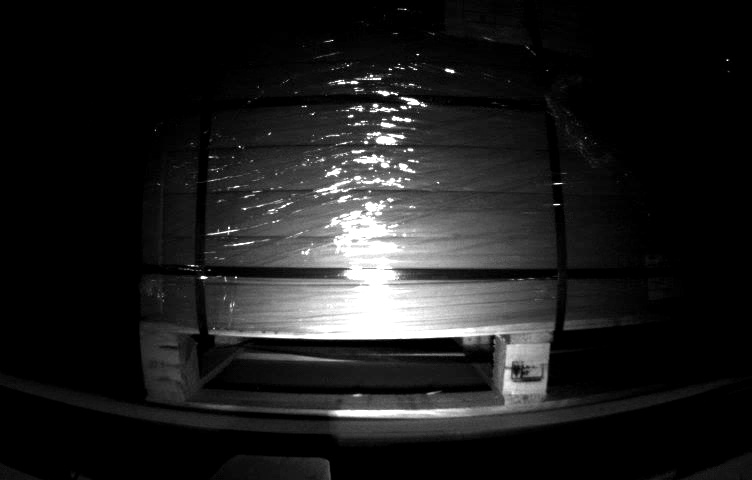True Barcode: (646, 253, 692, 299)
